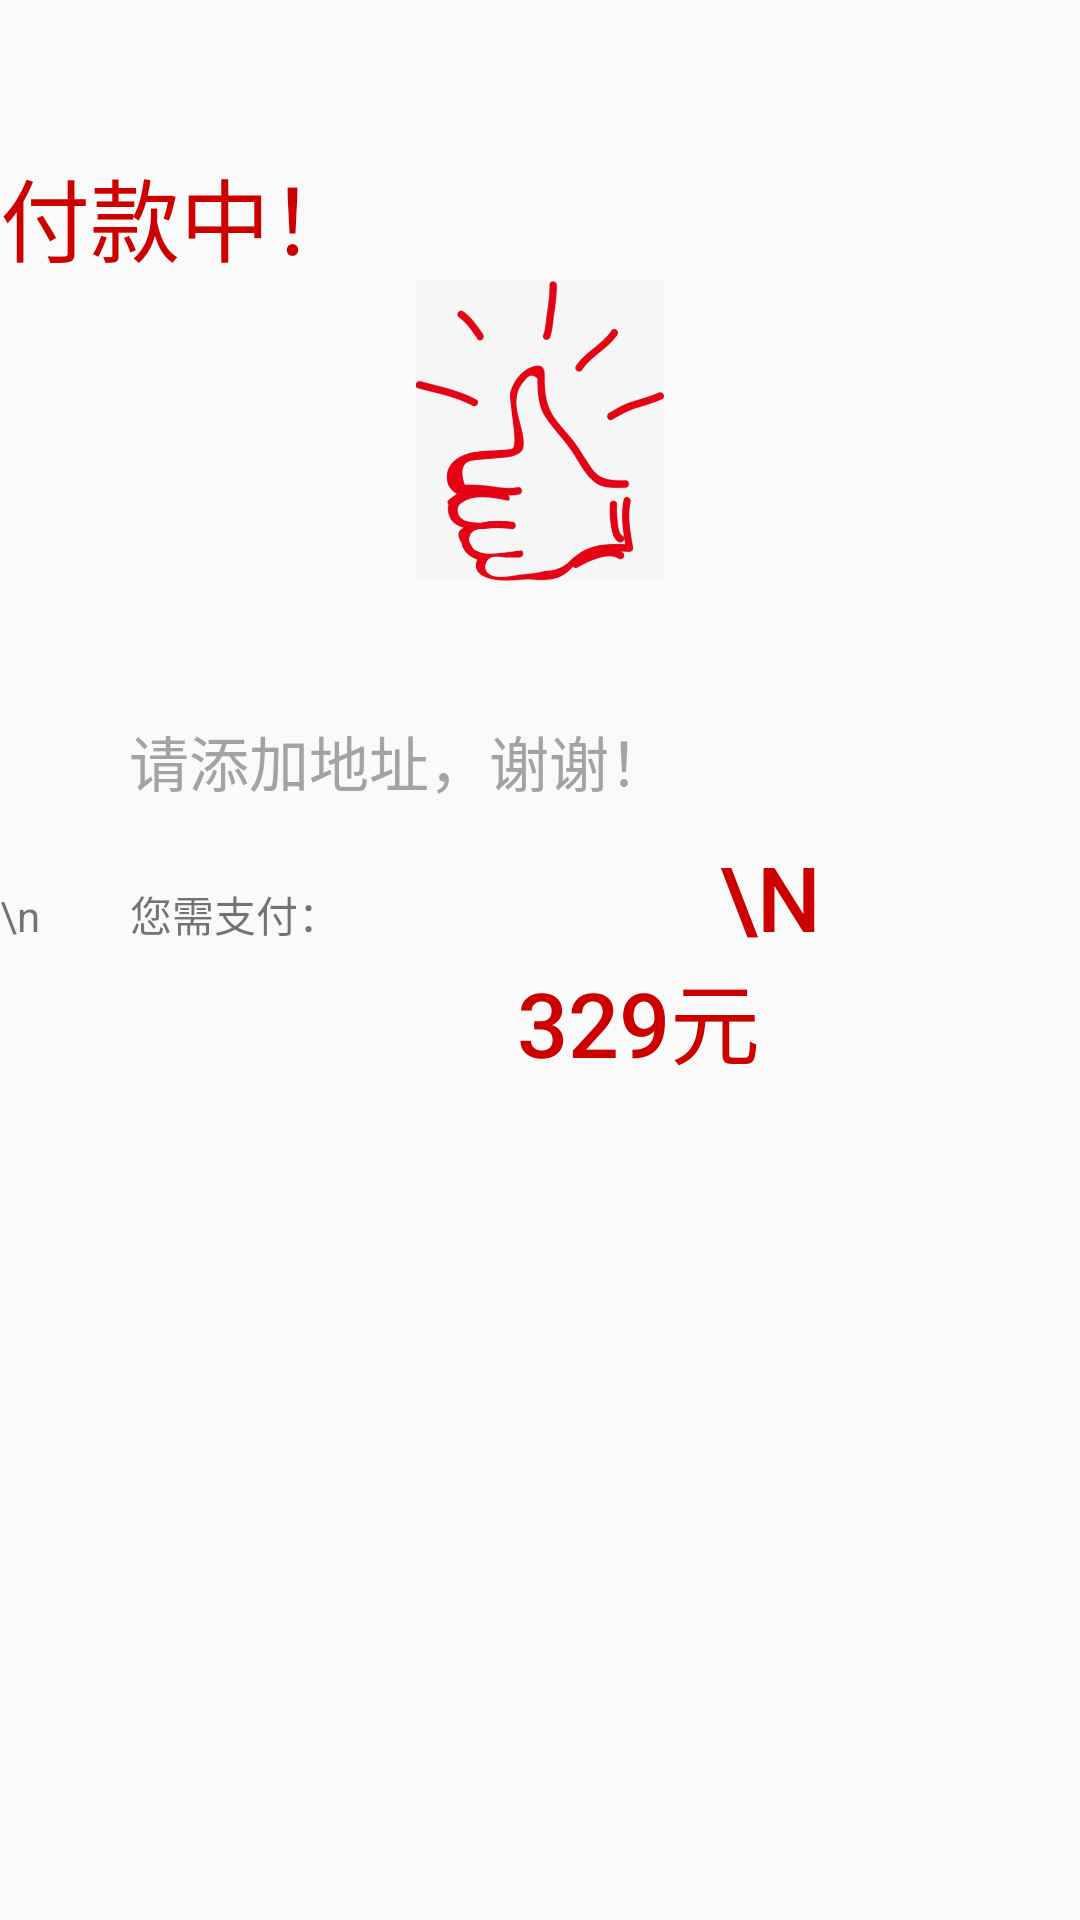

Icons on this 1080 × 1920 Android screen, each with its box as (x1, y1, x2, y2):
zan: (416, 281, 664, 581)
